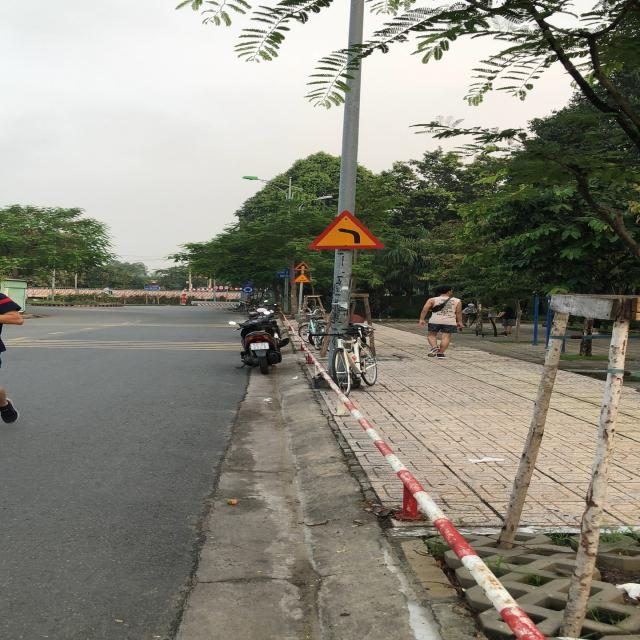Bien bao cho ngoat nguy hiem: (304, 207, 389, 251)
Bien bao di cham: (291, 272, 313, 284)
Bien bao noi giao nhau chay theo vong xuyen: (242, 286, 256, 294)
